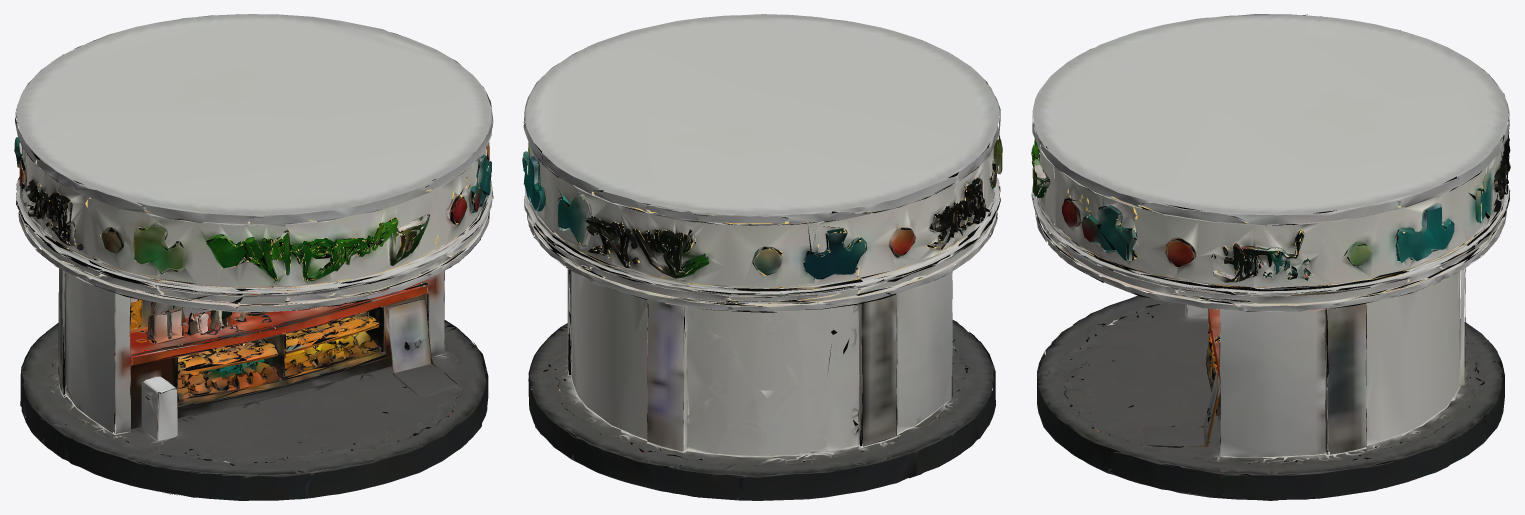
The model's file is rm-mortymart-tr.hq.glb.
The picture shows the model from 3 angles, left to right: view 1: azimuth 30°, elevation 25°; view 2: azimuth 150°, elevation 25°; view 3: azimuth 270°, elevation 25°; orthographic projection.
Visible parts, largest first — view 1: low; view 2: low; view 3: low.
Part boxes in pixels (box(x1,y1,x2,y2)): low: box(14, 14, 493, 500); low: box(522, 14, 1002, 500); low: box(1031, 14, 1510, 500).
Bounding box in the file's own units: 1 × 0.6692 × 1.01.
1 material, 1 textured.
